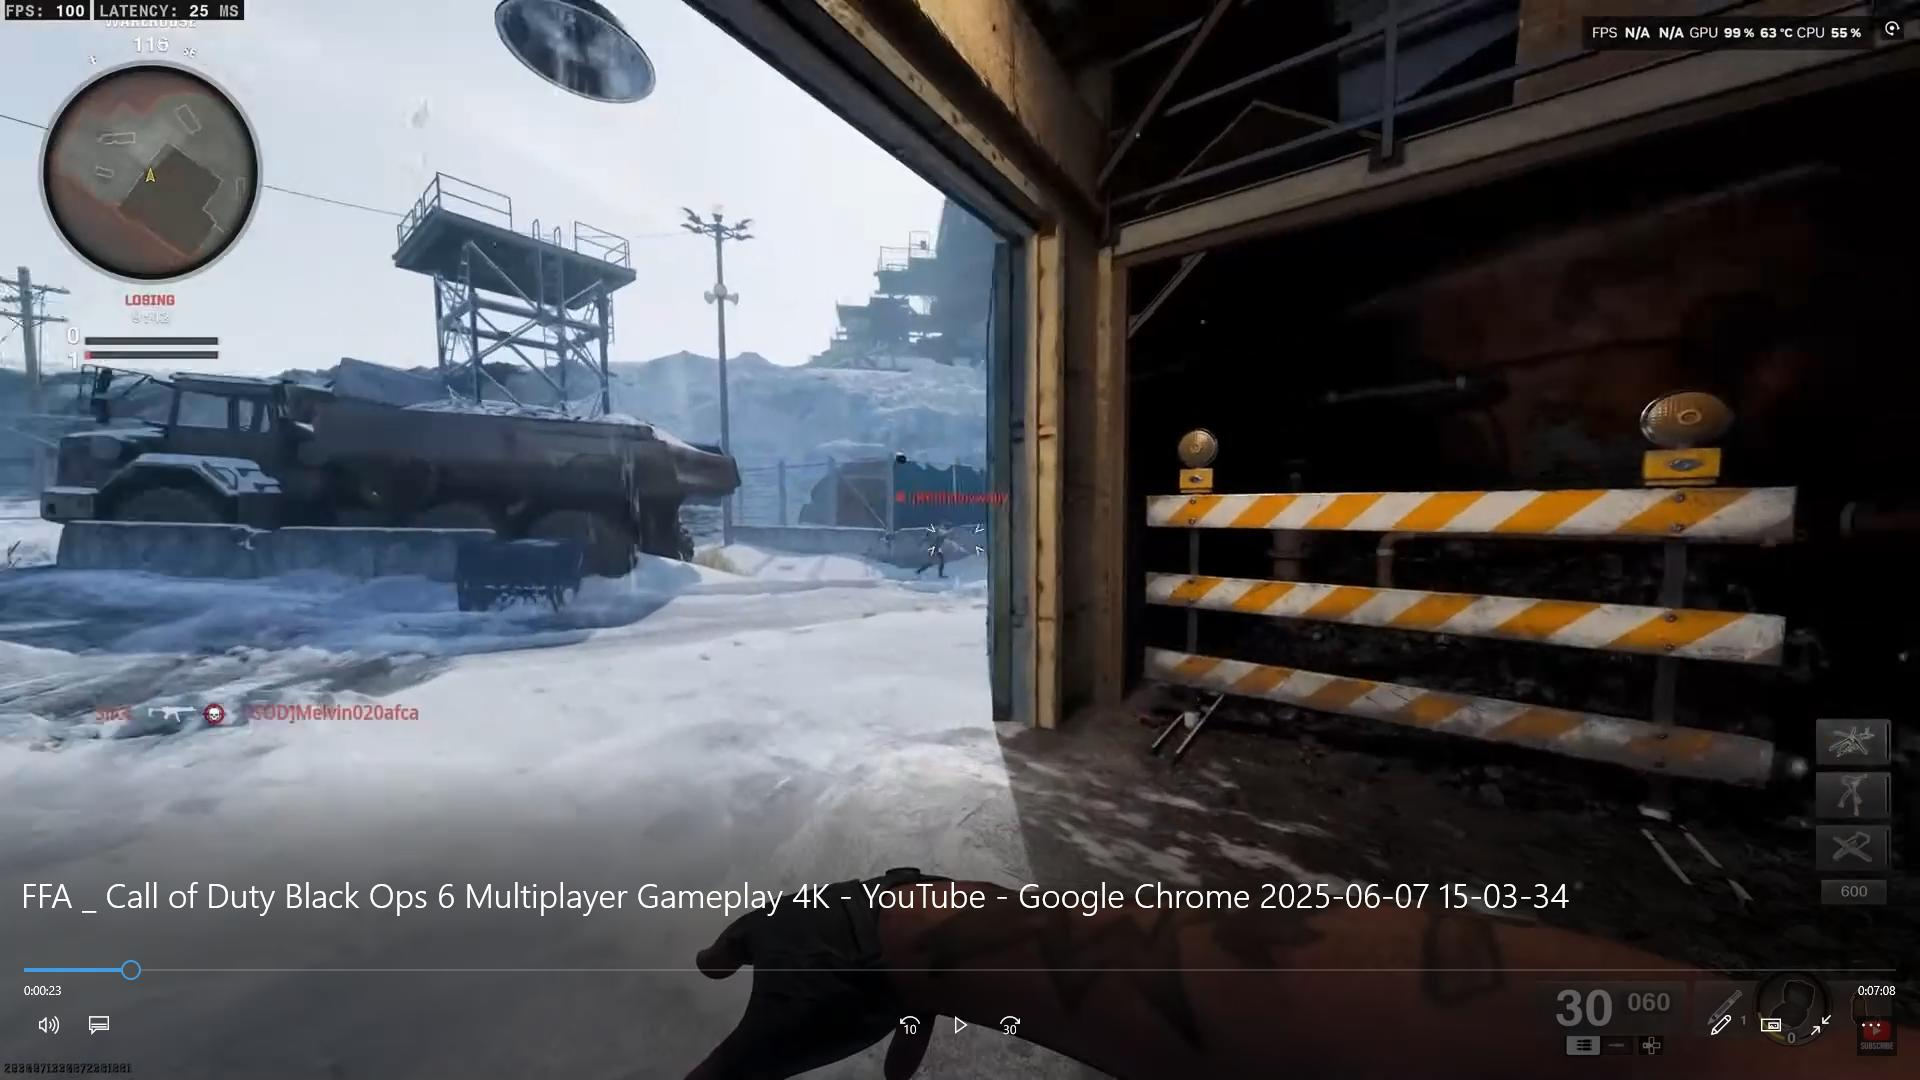Enemy: (909, 512, 959, 583)
